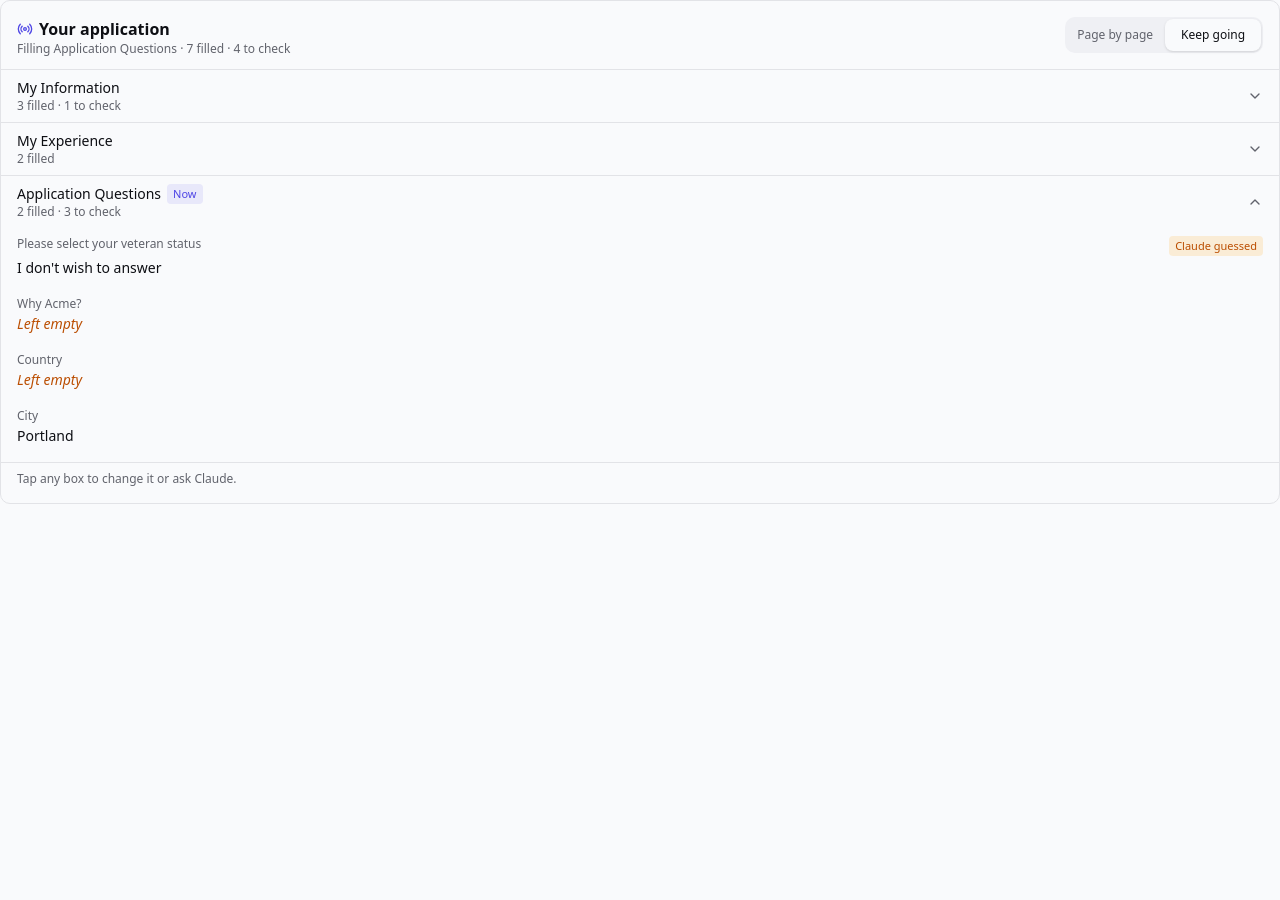
Test: Your application (spec 033) › shows the form's real choices, and a change waits
Step 1. Click the button with aria-label "Please select your veteran status: I don't wish to answer. T" → (109, 244), box [5,228,1275,286]
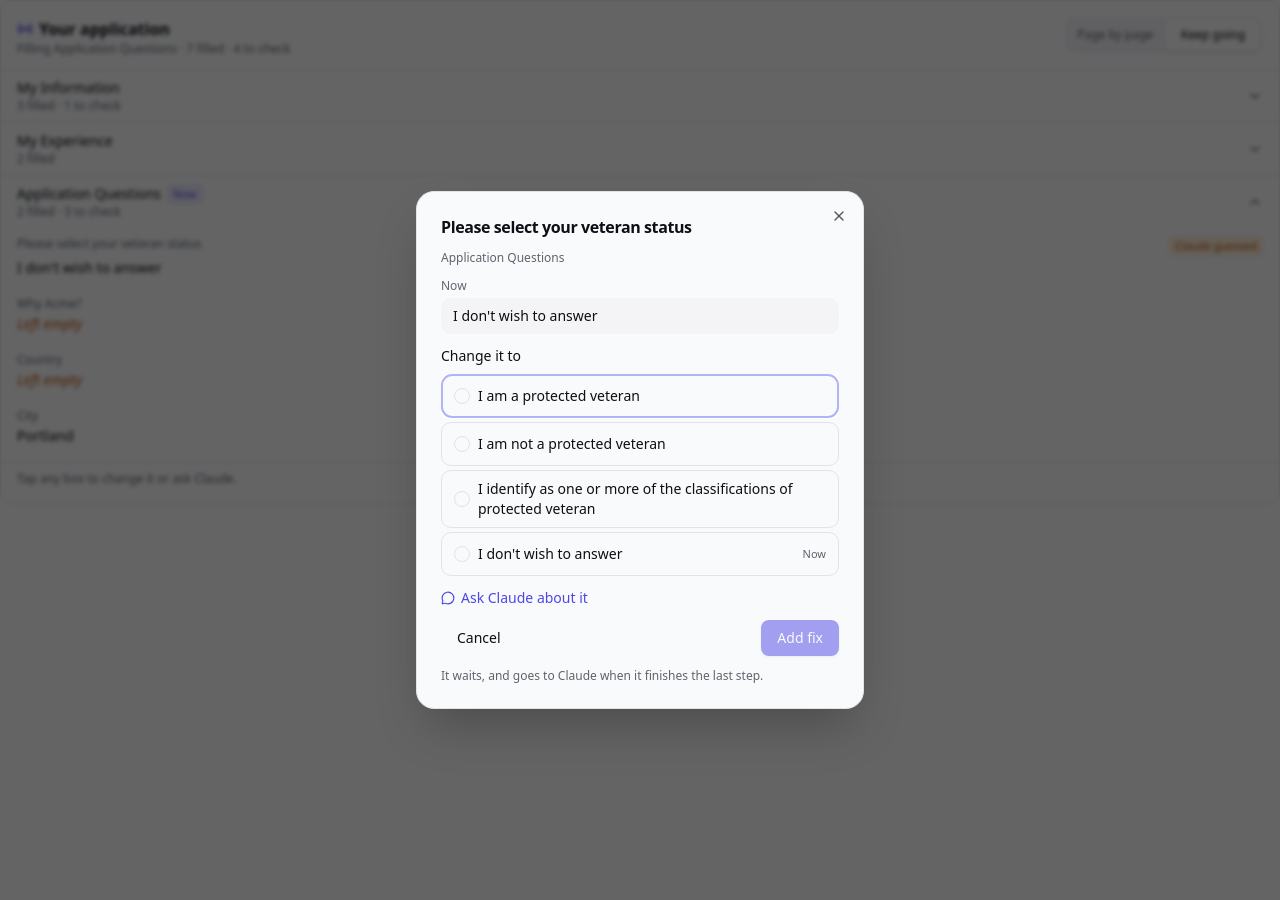
Check: the text "It waits, and goes to Claude when it finishes the last step." is shown, box [441,667,763,684]
Check: the button "Add fix" is disabled, box [761,620,839,656]
Step 2. Click the radio button labelled "I am not a protected veteran" → (640, 444), box [441,422,839,466]
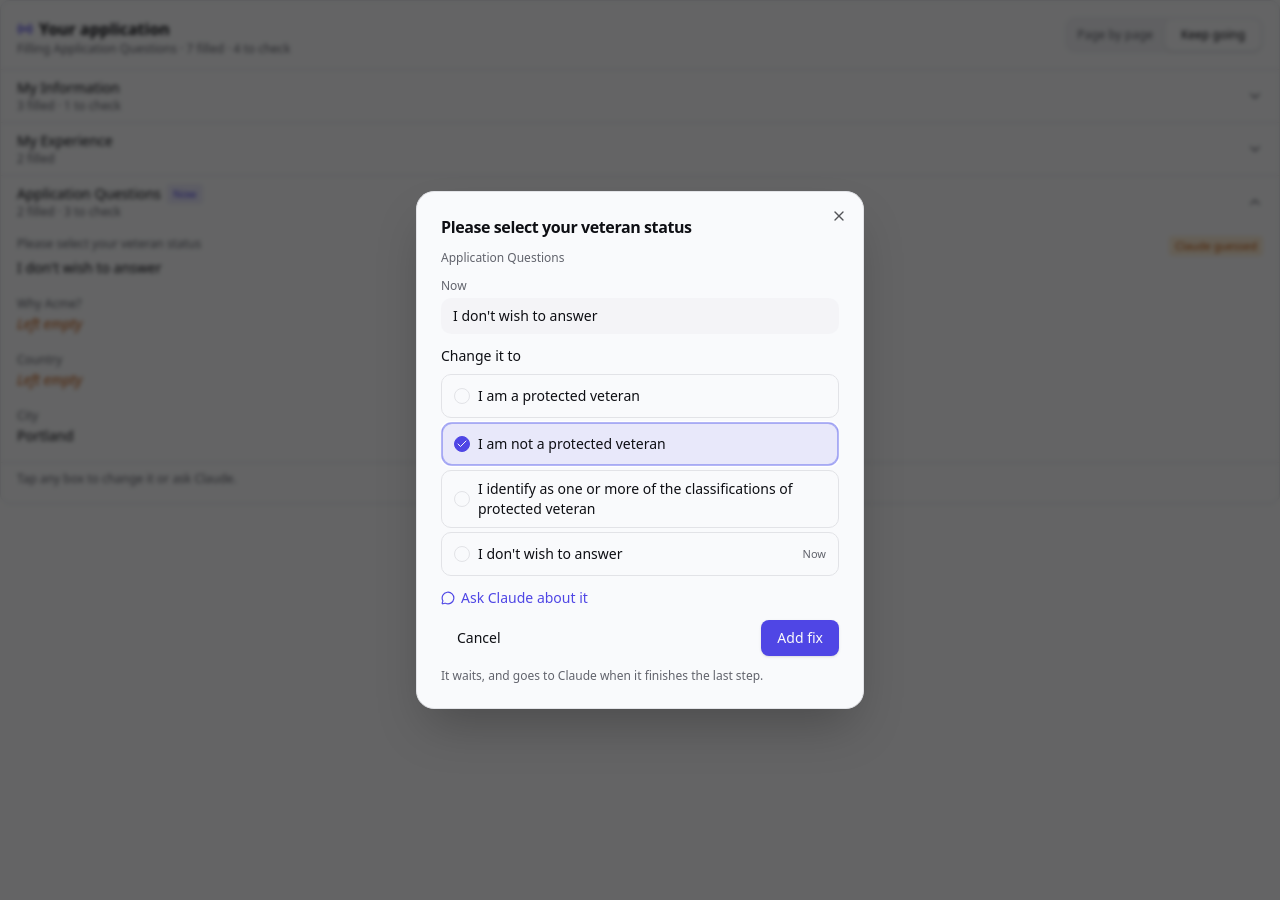
Step 3. Click the button "Add fix" → (800, 638), box [761,620,839,656]
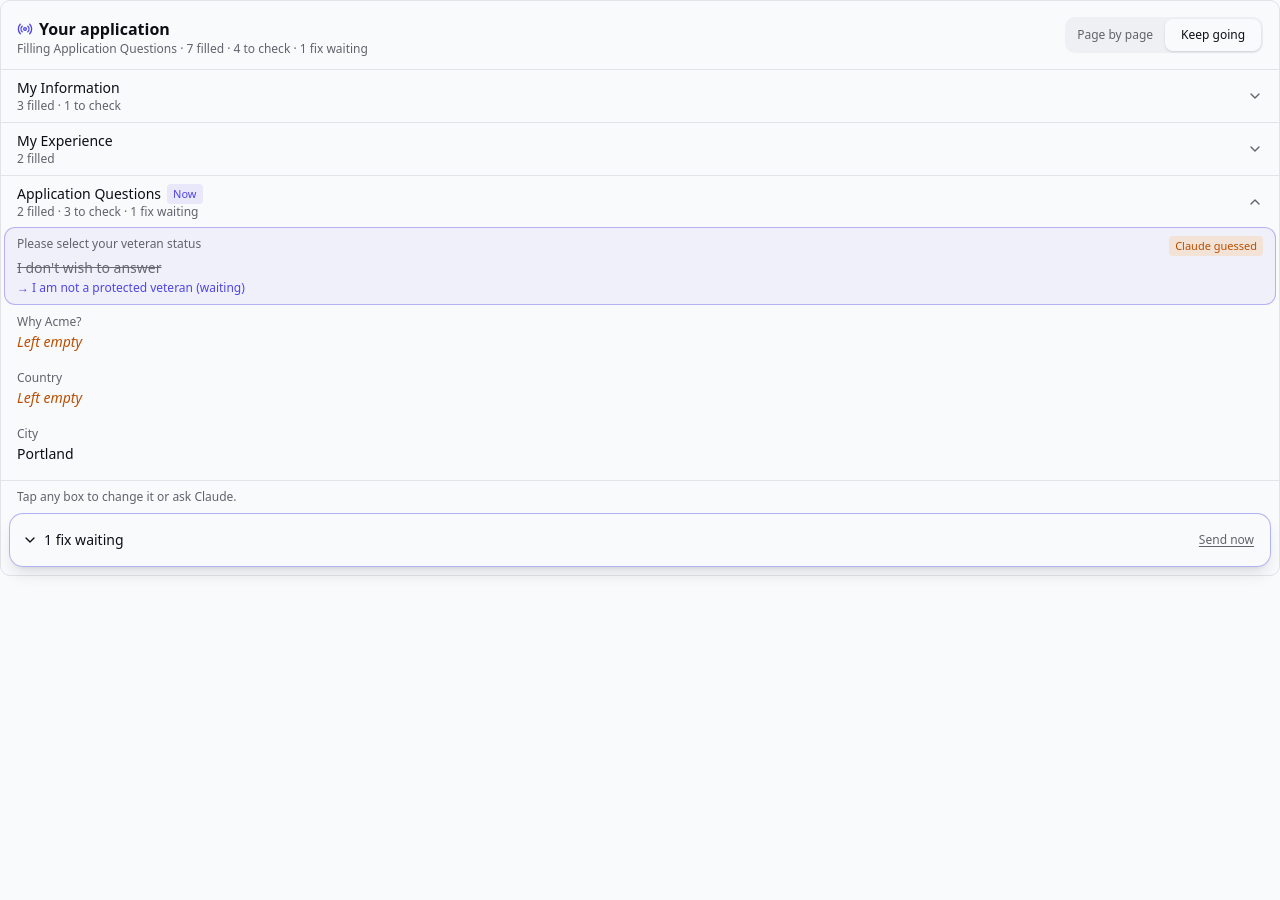
Check: the dialog is gone
Check: the text "Filling Application Questions · 7 filled · 4 to check · 1 fix waiting" is shown, box [17,41,368,57]
Check: the button "1 fix waiting" is shown, box [22,522,1183,558]
